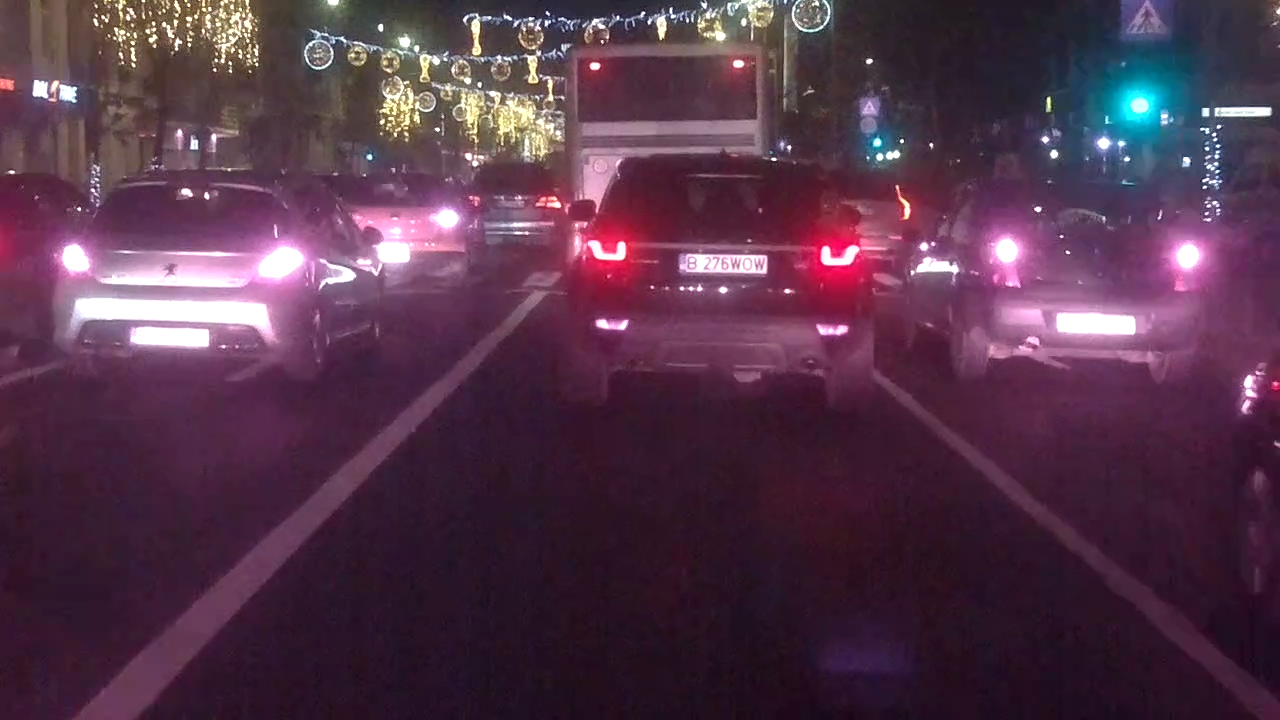license-plate: (674, 247, 772, 279)
